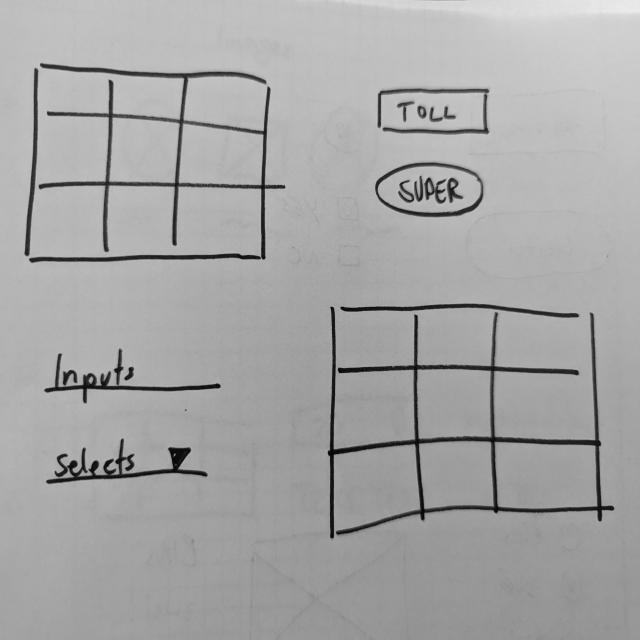button: (375, 160, 486, 222), (376, 87, 492, 137)
input: (46, 349, 224, 406)
select: (44, 438, 212, 489)
table: (324, 301, 609, 541), (24, 59, 272, 268)
